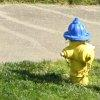a fire hydrant: (60, 16, 94, 82)
